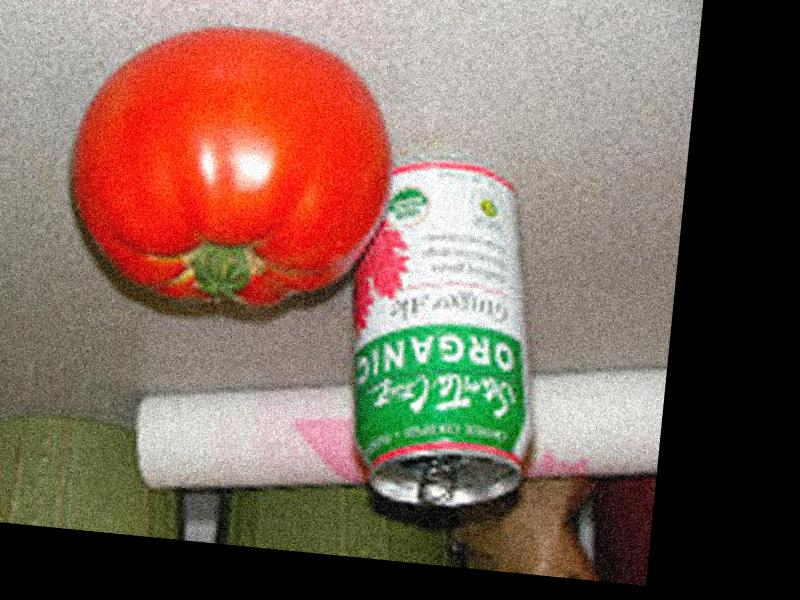Tomato: (63, 16, 400, 317)
